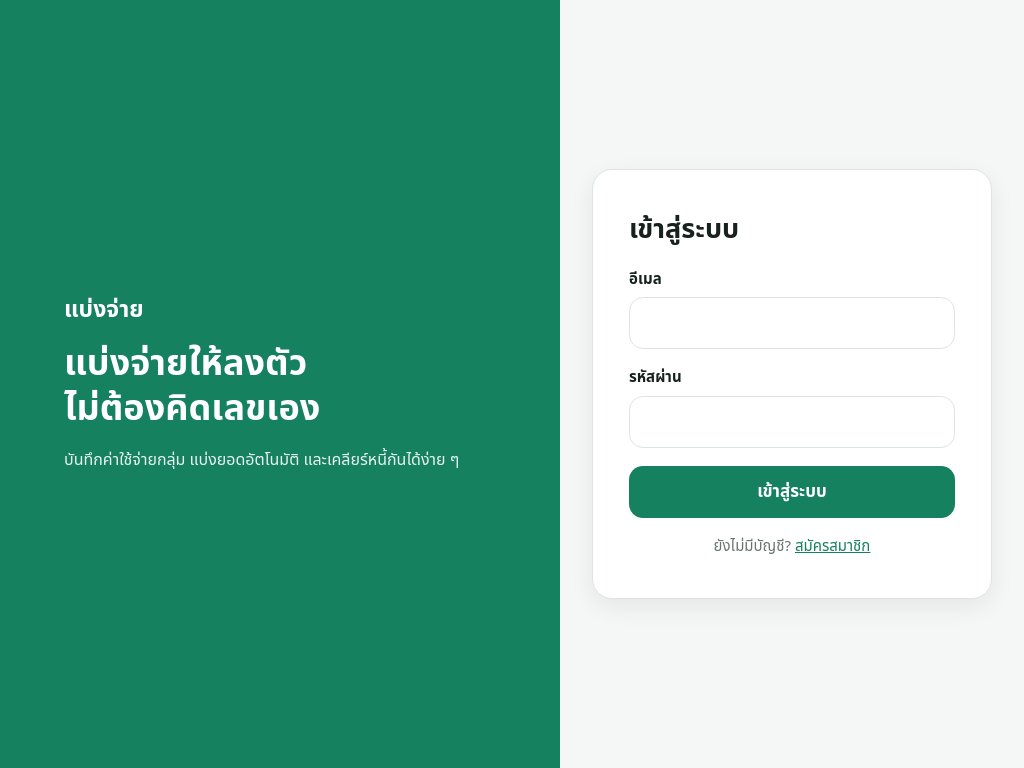
LoginPage — wrong password › keeps the error visible on the login page and does not navigate away
Type "someone@example.com" into the field labelled "อีเมล" at (792, 323), box [629,297,955,349]
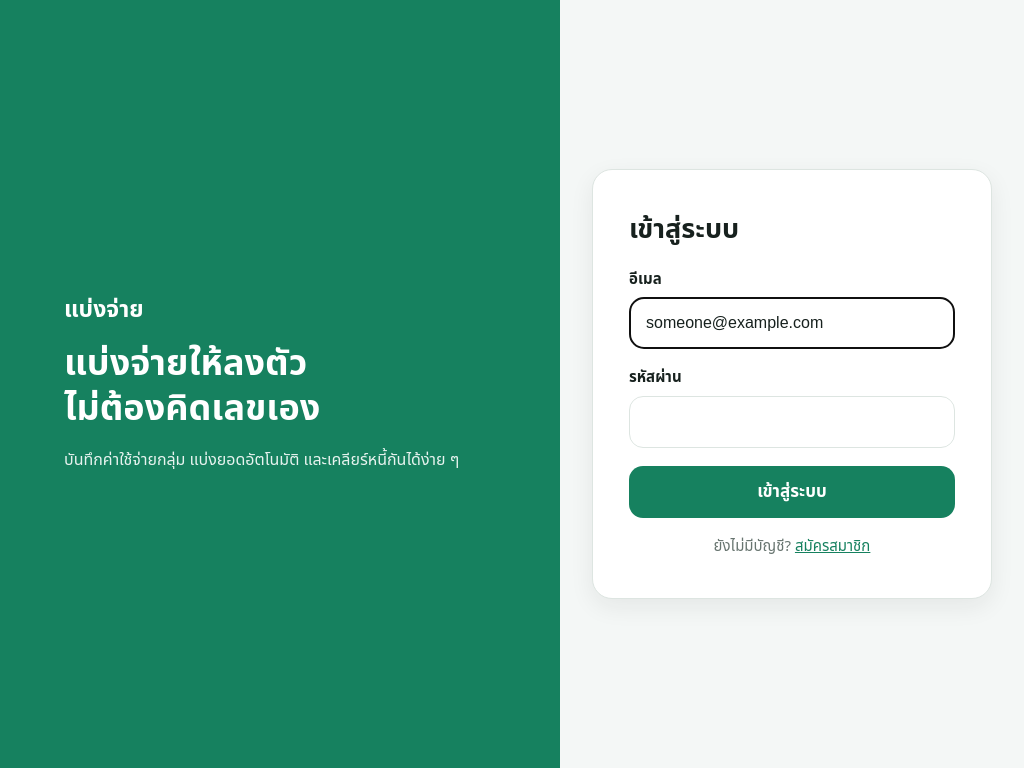
Type "wrong-password" into the password field labelled "รหัสผ่าน" at (792, 422), box [629,396,955,448]
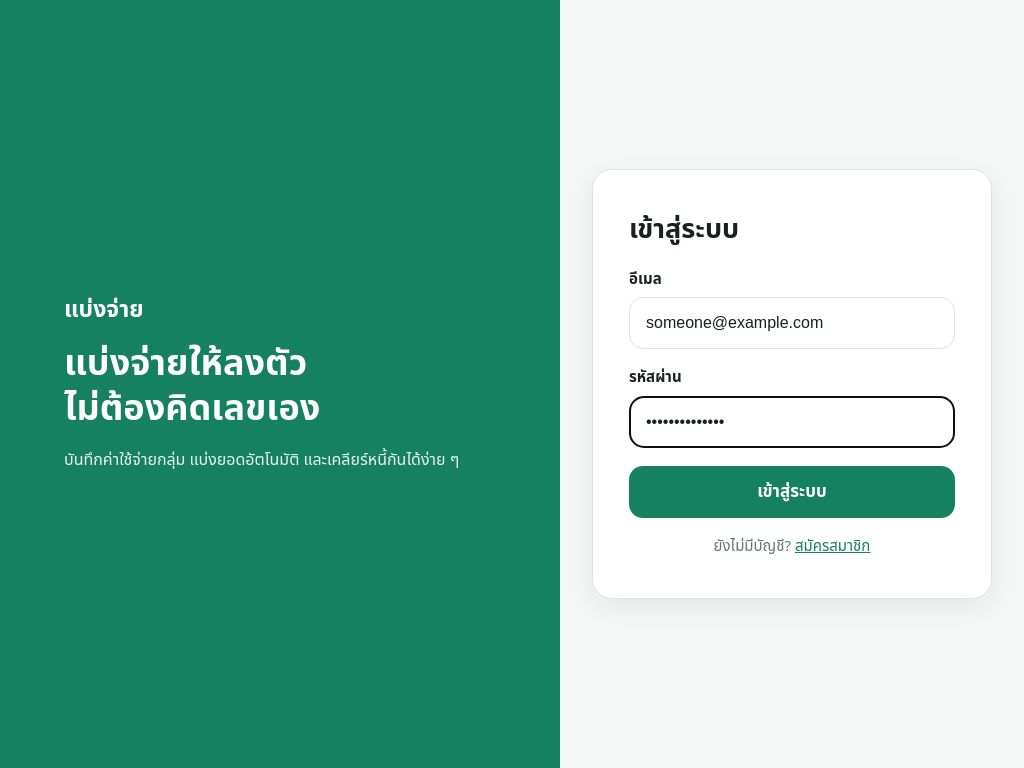
Click the button "เข้าสู่ระบบ" at (792, 492), box [629,466,955,518]
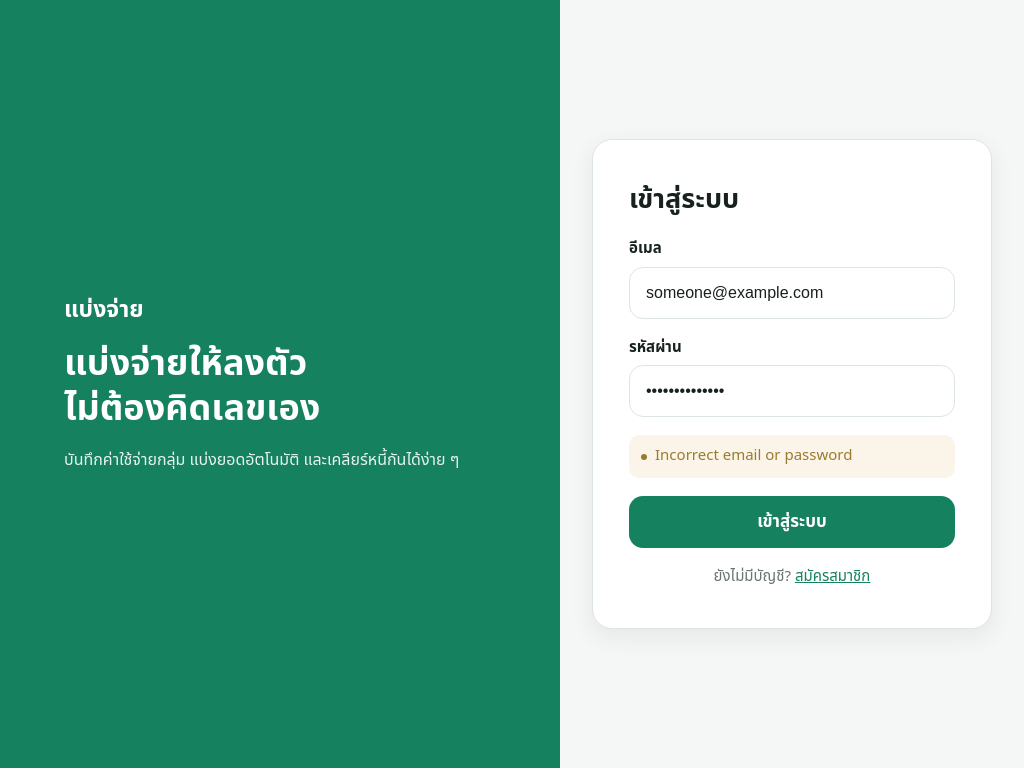
Expected: the heading "เข้าสู่ระบบ" is shown, [629,179,739,220]
Result: the message reads "Incorrect email or password" at [655,444,852,467]
